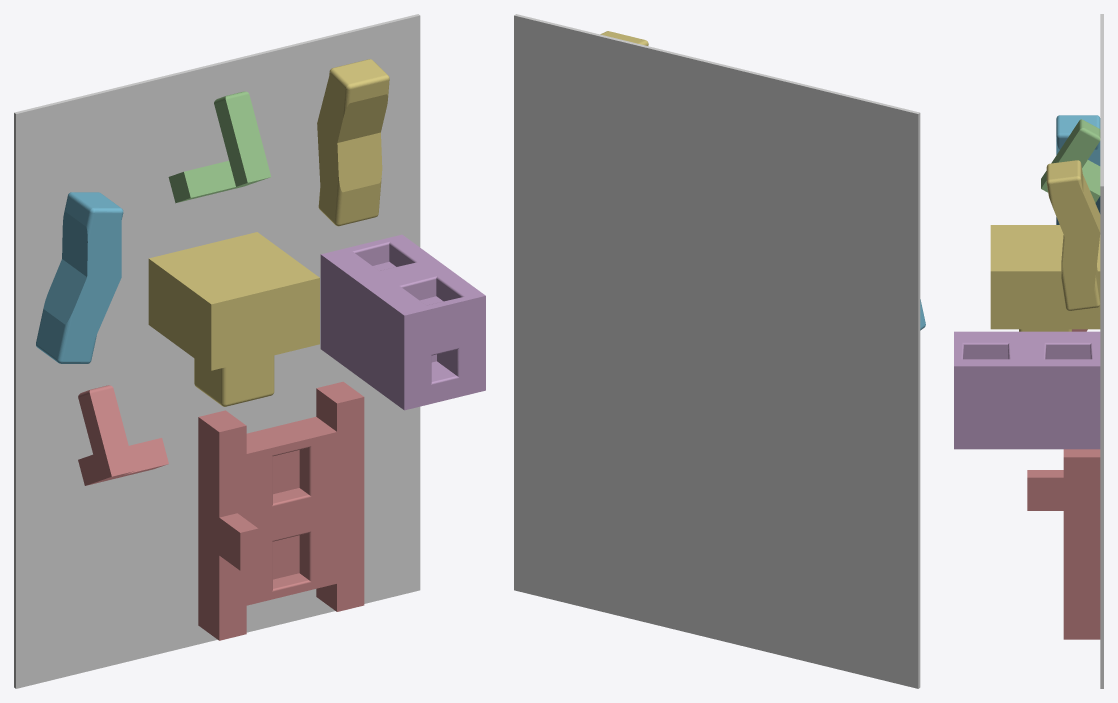
Rendered from pickup_layout.glb.
3 renders of one model, left to right at view 1: azimuth 30°, elevation 25°; view 2: azimuth 150°, elevation 25°; view 3: azimuth 270°, elevation 25°, orthographic. The views are drawn at different scales.
Visible parts, largest first — view 1: world, 0.obj, 3.obj, 6.obj, 2.obj, 1.obj, 4.obj, 5.obj; view 2: world; view 3: 3.obj, 0.obj, 6.obj, 1.obj, world, 4.obj, 2.obj.
Part boxes in pixels (left/top/right/bottom): world: left=14, top=14, right=420, bottom=688; 0.obj: left=198, top=381, right=364, bottom=640; 3.obj: left=320, top=234, right=485, bottom=410; 6.obj: left=148, top=232, right=319, bottom=406; 2.obj: left=36, top=192, right=123, bottom=363; 1.obj: left=317, top=59, right=389, bottom=226; 4.obj: left=168, top=91, right=270, bottom=203; 5.obj: left=78, top=385, right=168, bottom=485; world: left=514, top=14, right=920, bottom=688; 3.obj: left=954, top=331, right=1100, bottom=449; 0.obj: left=1027, top=449, right=1100, bottom=639; 6.obj: left=990, top=225, right=1100, bottom=331; 1.obj: left=1046, top=160, right=1100, bottom=310; world: left=1100, top=14, right=1103, bottom=688; 4.obj: left=1041, top=119, right=1100, bottom=202; 2.obj: left=1056, top=115, right=1100, bottom=224.
Bounding box in the file's own units: 22.31 × 30.32 × 8.2.
